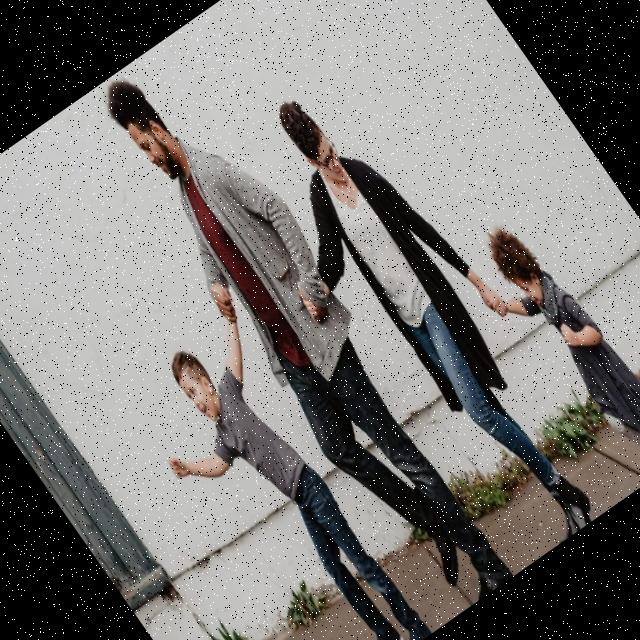Person: (78, 41, 536, 626), (202, 60, 636, 583), (94, 276, 455, 640), (453, 204, 640, 496)
